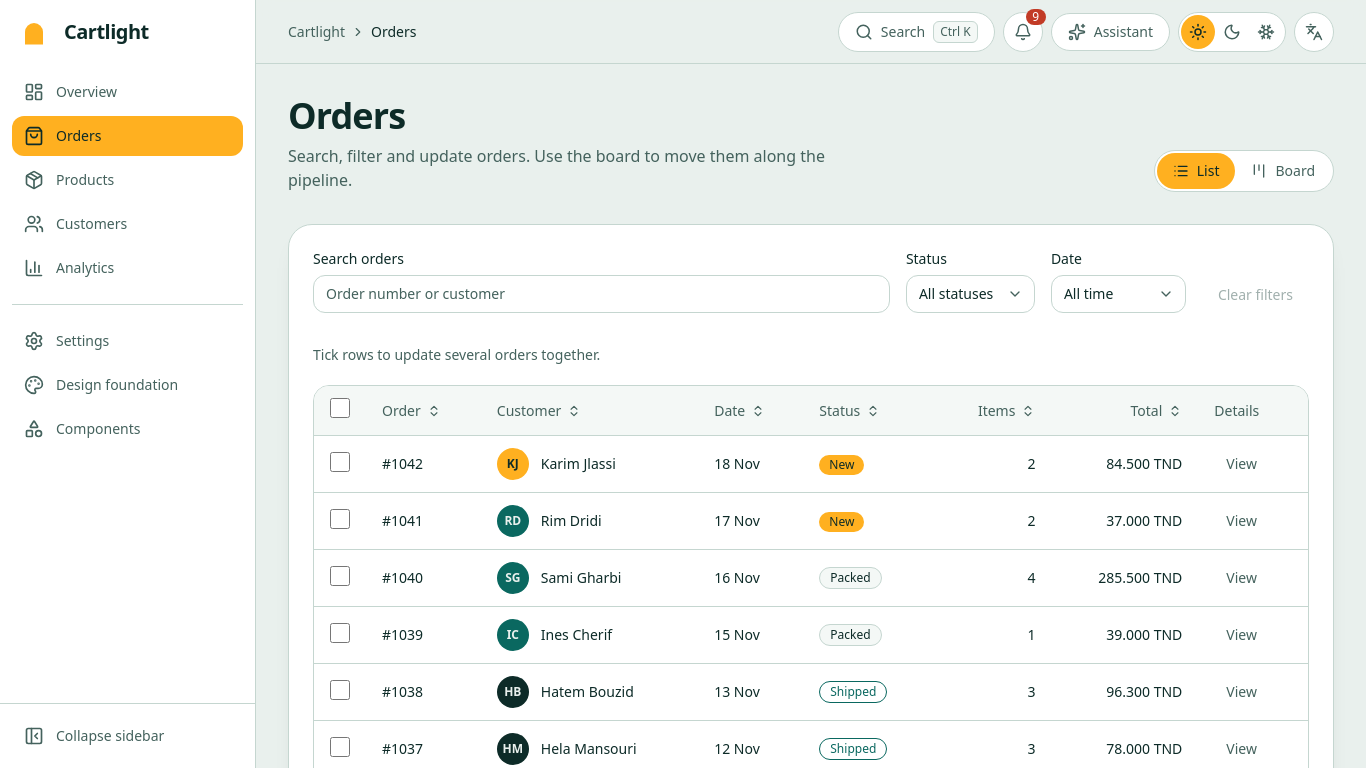
orders page › opens an order, changes its status and saves
Click the button with aria-label "View order #1042". click: [1242, 464]
box: [1214, 448, 1269, 480]
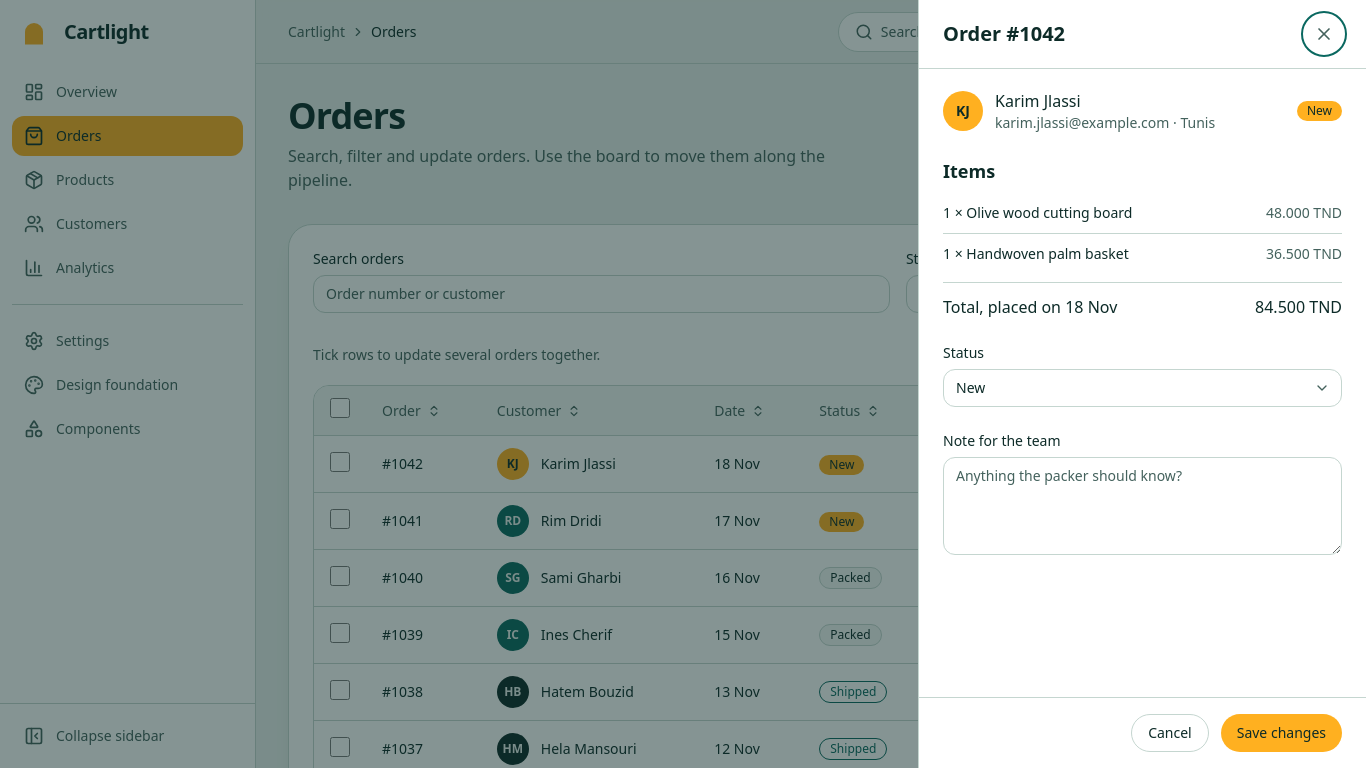
Check: the text "Total, placed on 18 Nov" is shown, box [943, 295, 1117, 319]
Select "Delivered" in the dropdown labelled "Status". click: [1142, 388]
box: [943, 369, 1342, 407]
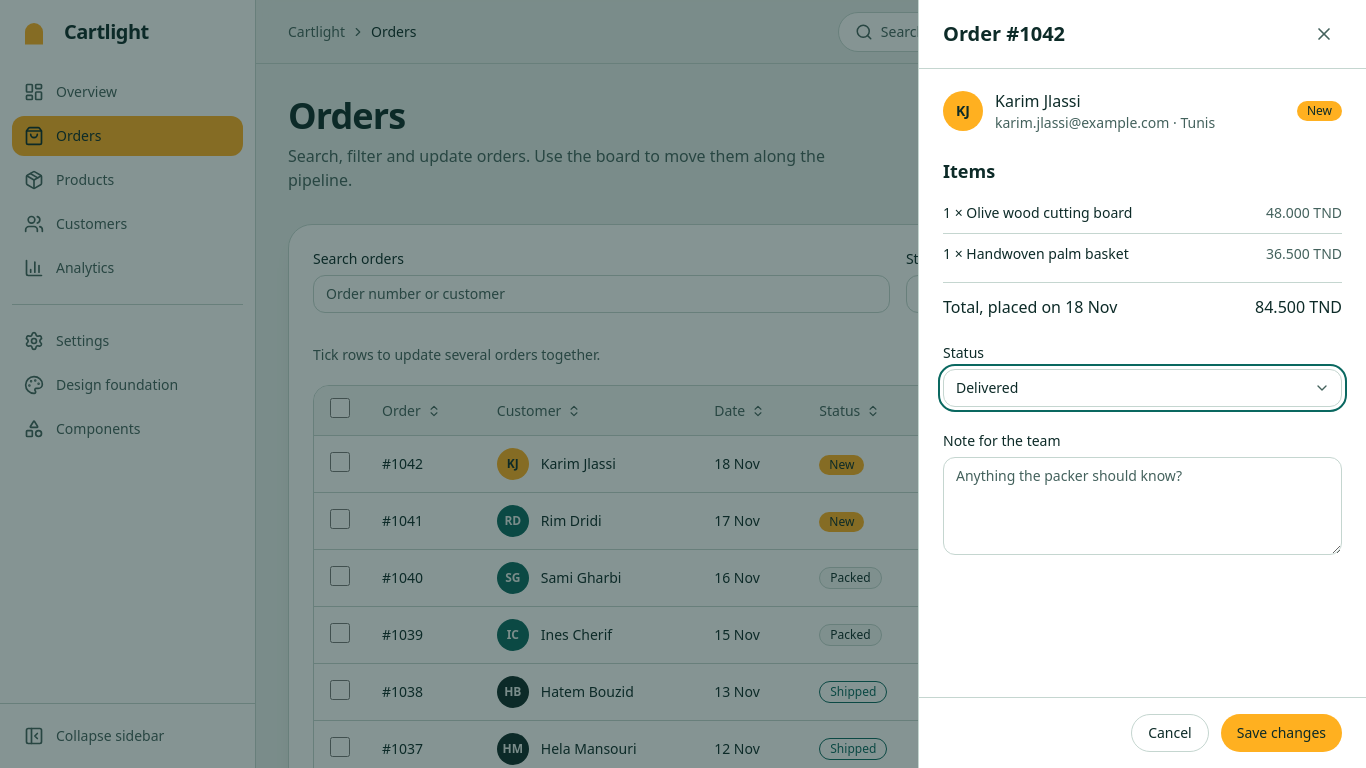
Click the button "Save changes". click: [1281, 733]
box: [1221, 714, 1342, 752]
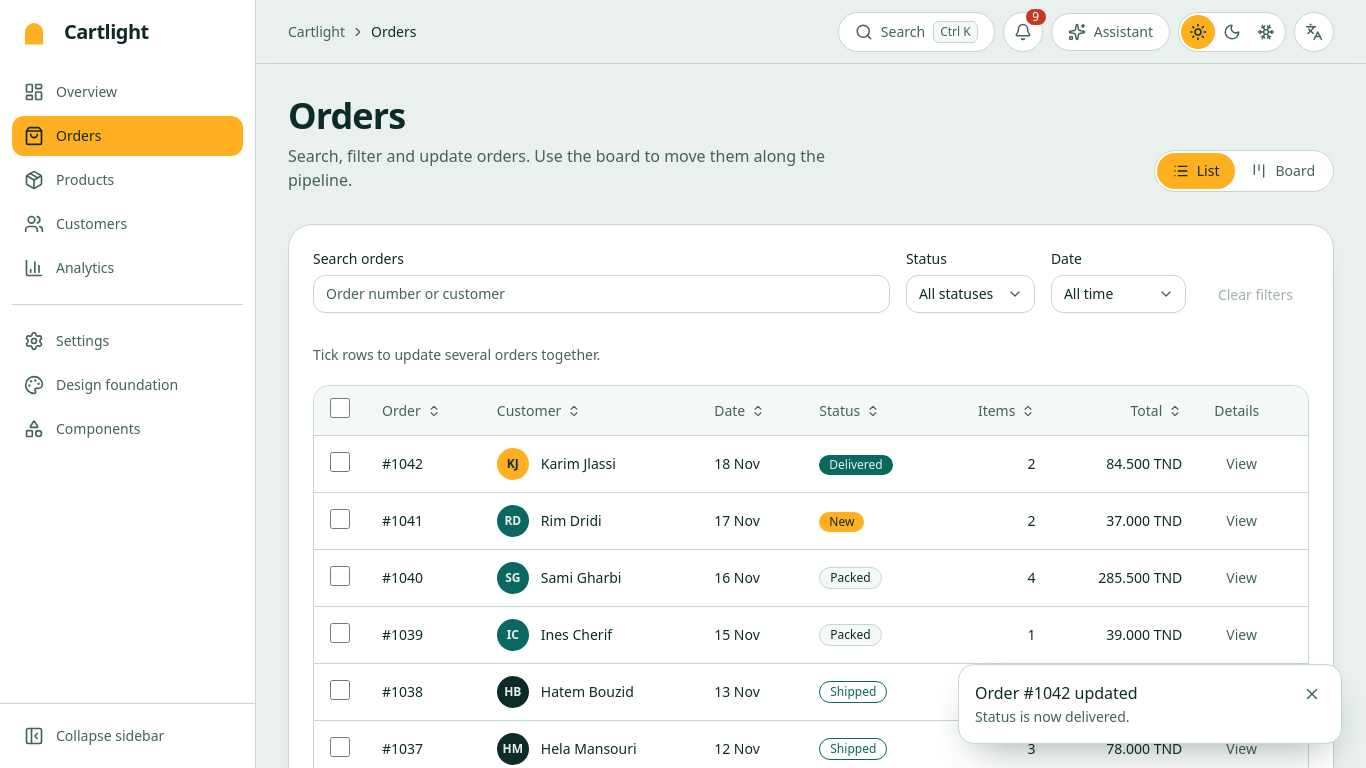
Check: the dialog is gone
Check: the message shows "Order #1042 updated", box [975, 682, 1138, 704]
Check: the text "Delivered" is shown, box [819, 454, 893, 474]
